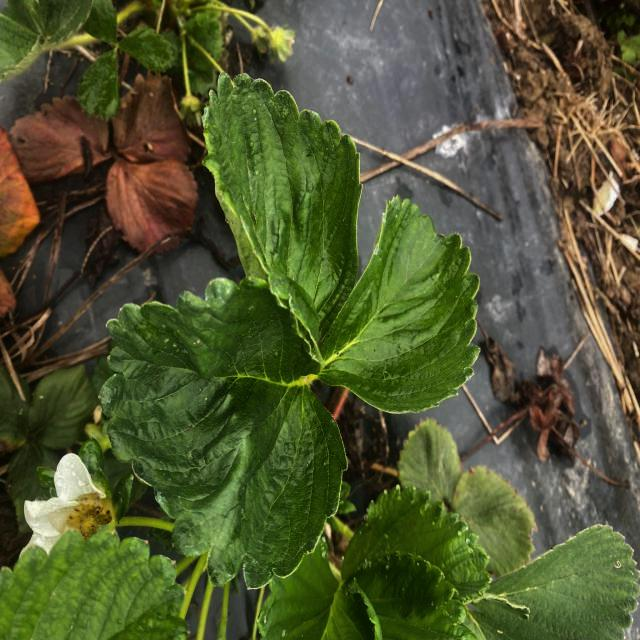flower: (11, 449, 128, 572)
